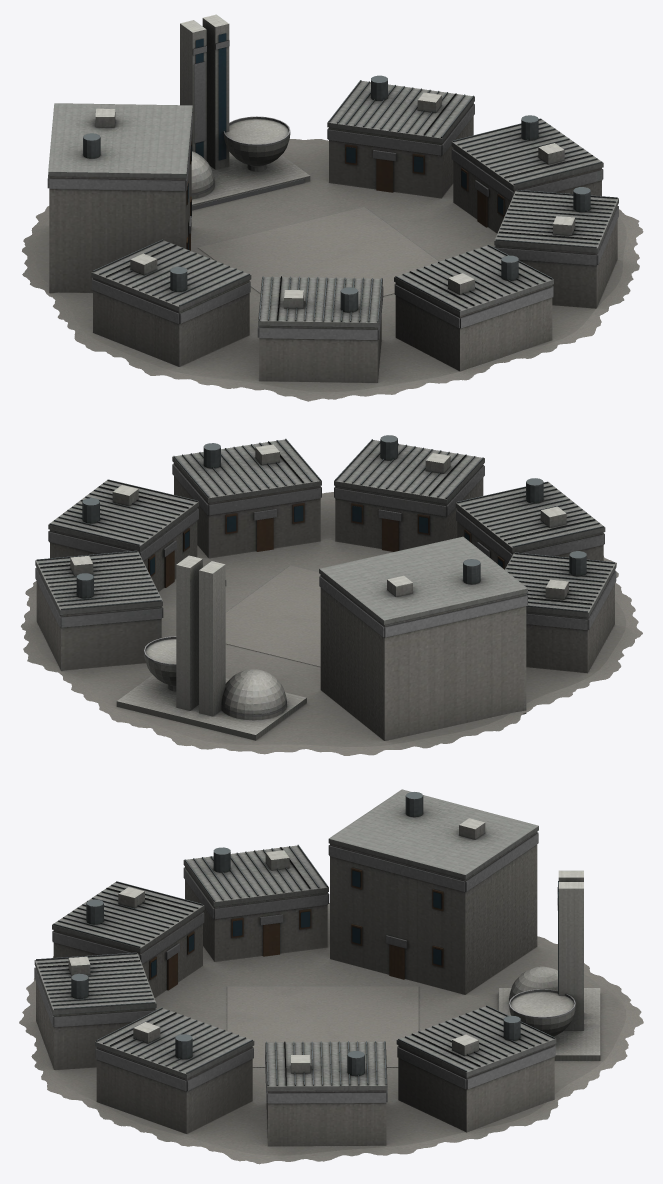
File: modern-town-small-a-americas.glb
3 renders of one model, top to bottom at view 1: azimuth 30°, elevation 25°; view 2: azimuth 150°, elevation 25°; view 3: azimuth 270°, elevation 25°, orthographic.
Visible parts, largest first — view 1: LOD0; view 2: LOD0; view 3: LOD0.
Part boxes in pixels (<box>): LOD0: <box>22,14,643,401</box>; LOD0: <box>21,435,642,755</box>; LOD0: <box>19,789,643,1164</box>.
Size of what is drawn, in the model's own units: 4.02 by 1.05 by 3.98.
Materials: 3 (3 with a texture image).
